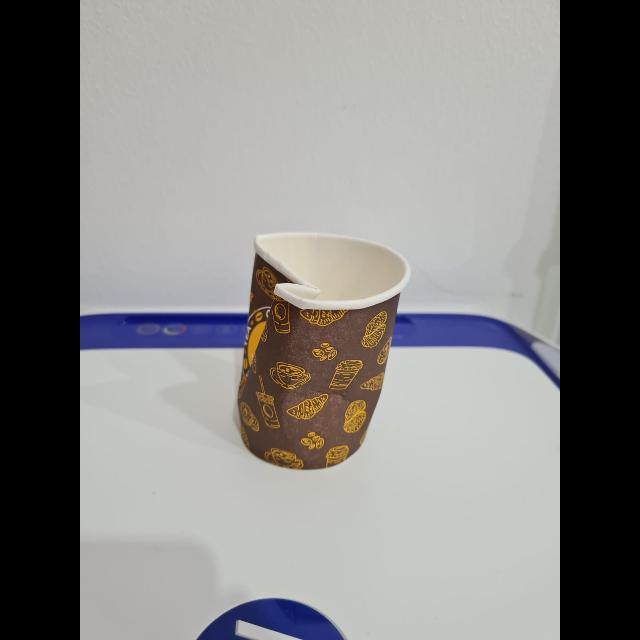trash: (211, 217, 415, 488)
